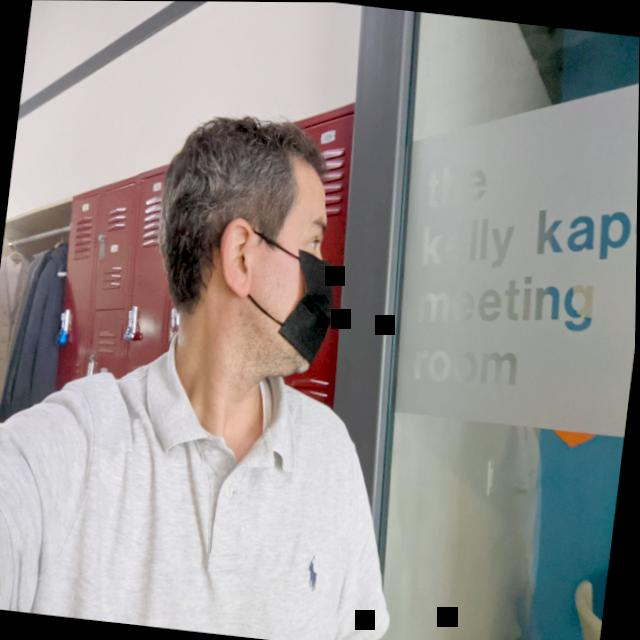Mask: (198, 159, 352, 380)
